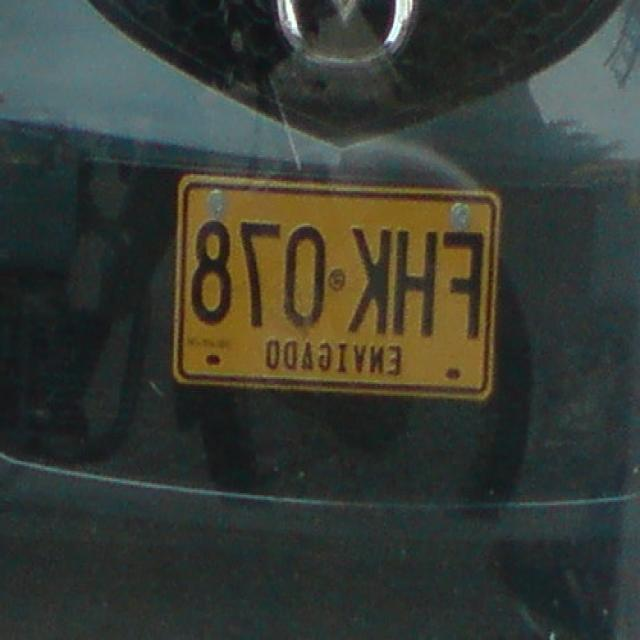placas: (182, 211, 490, 348)
